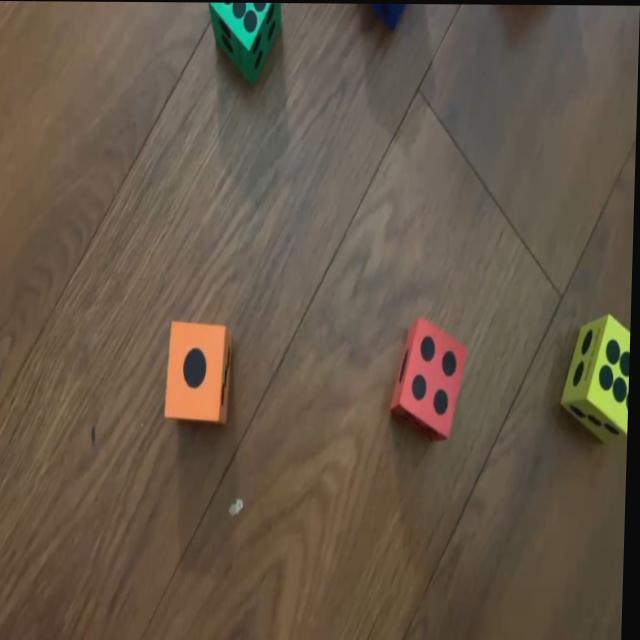cube: (393, 315, 469, 440), (209, 1, 279, 82)
